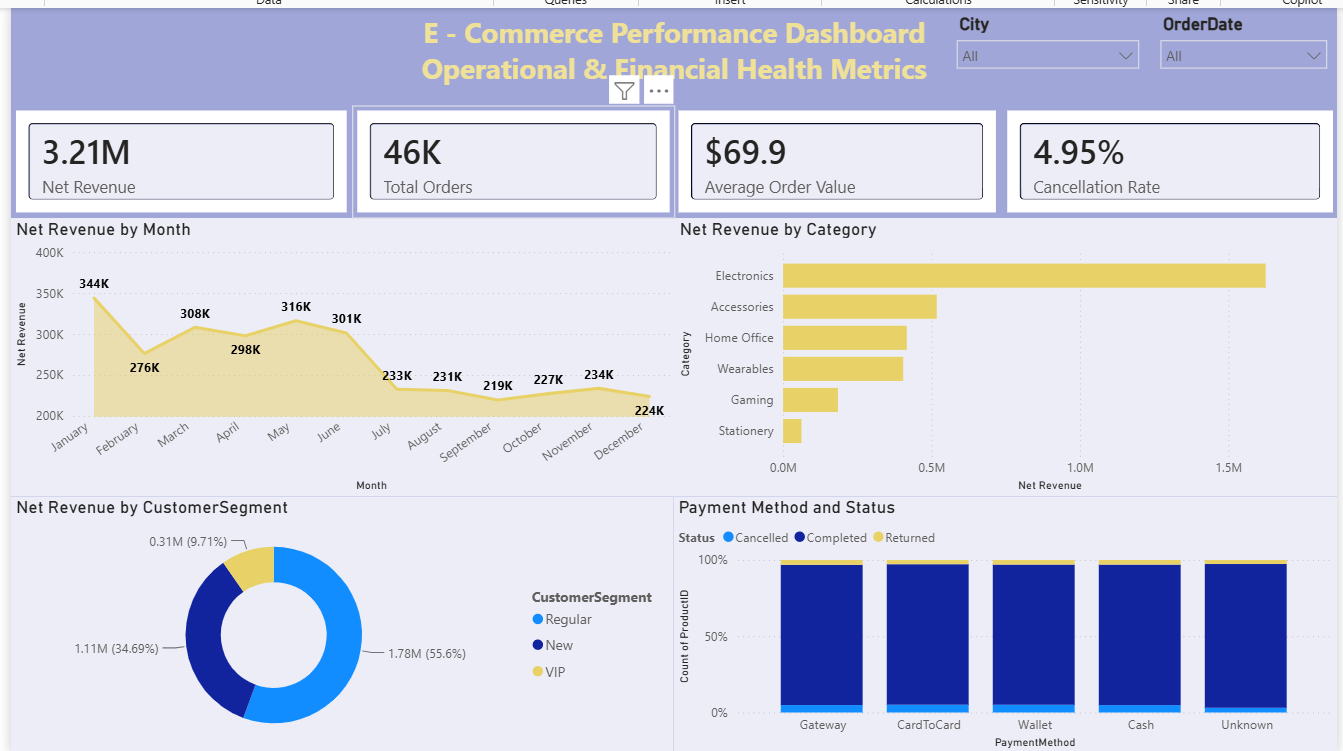

This screenshot's page, from the dashboard's own definition file:
{"tool":"powerbi","page":{"name":"Page 1","canvas":[1280,720],"ordinal":0},"visuals":[{"type":"textbox","box":[0,0,1280.3,94.7],"z":0},{"type":"slicer","title":"CITY","fields":{"Values":["public customers.City"]},"box":[902.9,0,196.2,94.7],"z":1000},{"type":"areaChart","fields":{"Category":["public orders.OrderDate.Variation.Date Hierarchy.Year","public orders.OrderDate.Variation.Date Hierarchy.Quarter","public orders.OrderDate.Variation.Date Hierarchy.Month","public orders.OrderDate.Variation.Date Hierarchy.Day"],"Y":["_Measures.Net Revenue"]},"box":[0,203.1,640.8,269],"z":2000},{"type":"cardVisual","fields":{"Data":["_Measures.Net Revenue"]},"box":[0,94.1,329.4,108.6],"z":3000},{"type":"cardVisual","fields":{"Data":["_Measures.Average Order Value"]},"box":[639.5,94.2,316.7,108.8],"z":4000},{"type":"cardVisual","fields":{"Data":["_Measures.Total Orders"]},"box":[329.3,94.7,311.5,108.4],"z":5000},{"type":"cardVisual","fields":{"Data":["_Measures.Cancellation Rate"]},"box":[956.3,94.2,324.1,108.8],"z":6000},{"type":"clusteredBarChart","fields":{"Category":["public products.Category"],"Y":["_Measures.Net Revenue"]},"box":[640.8,203.1,639.5,269],"z":7000},{"type":"donutChart","fields":{"Category":["public customers.CustomerSegment"],"Y":["_Measures.Net Revenue"]},"box":[0,472,639.5,248.2],"z":8000},{"type":"hundredPercentStackedColumnChart","title":" Payment Method and Status","fields":{"Category":["public orders.PaymentMethod"],"Y":["CountNonNull(public orders.ProductID)"],"Series":["public orders.Status"]},"box":[639.5,472,640.8,248.2],"z":9000},{"type":"slicer","title":"CITY","fields":{"Values":["public orders.OrderDate"]},"box":[1099.1,0,181,94.1],"z":10000}]}

Visuals, with their boxes on the page's 1280x720 design canvas (x1, y1, x2, y2). These are canvas units, not pixel positions in the 1343x751 screenshot, which may show the page scaled, cropped or inside an application window:
textbox: 0,0,1280,95
"CITY" slicer: 903,0,1099,95
areaChart - public orders.OrderDate.Variation.Date Hierarchy.Year x public orders.OrderDate.Variation.Date Hierarchy.Quarter: 0,203,641,472
cardVisual - _Measures.Net Revenue: 0,94,329,203
cardVisual - _Measures.Average Order Value: 640,94,956,203
cardVisual - _Measures.Total Orders: 329,95,641,203
cardVisual - _Measures.Cancellation Rate: 956,94,1280,203
clusteredBarChart - public products.Category x _Measures.Net Revenue: 641,203,1280,472
donutChart - public customers.CustomerSegment x _Measures.Net Revenue: 0,472,640,720
" Payment Method and Status" hundredPercentStackedColumnChart: 640,472,1280,720
"CITY" slicer: 1099,0,1280,94
